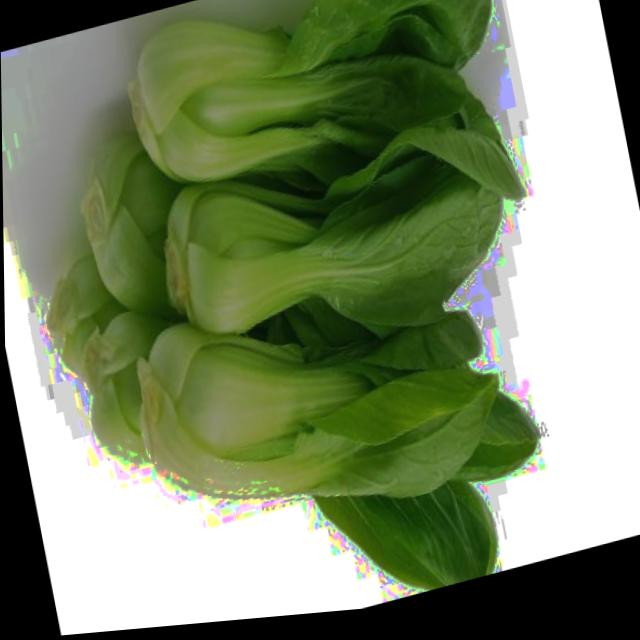chinese_cabbage: (2, 0, 580, 640)
